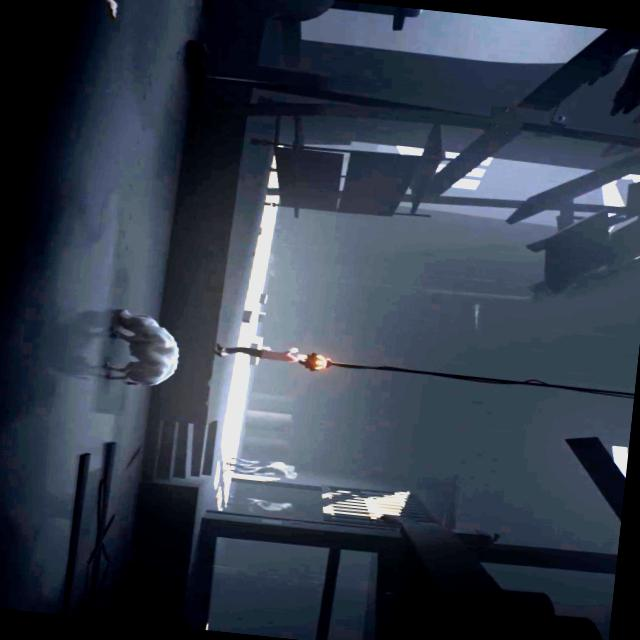boy: (213, 341, 311, 366)
zombie: (220, 461, 298, 482), (224, 493, 292, 512), (228, 456, 294, 471)
